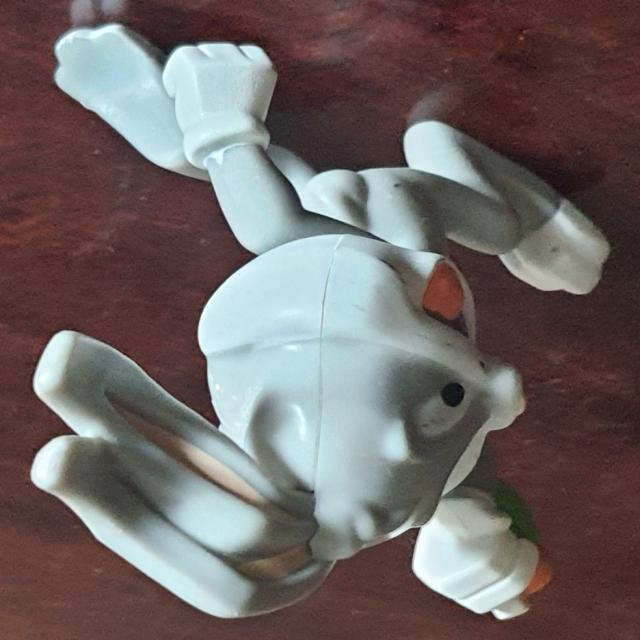Rabbit: (29, 22, 612, 622)
